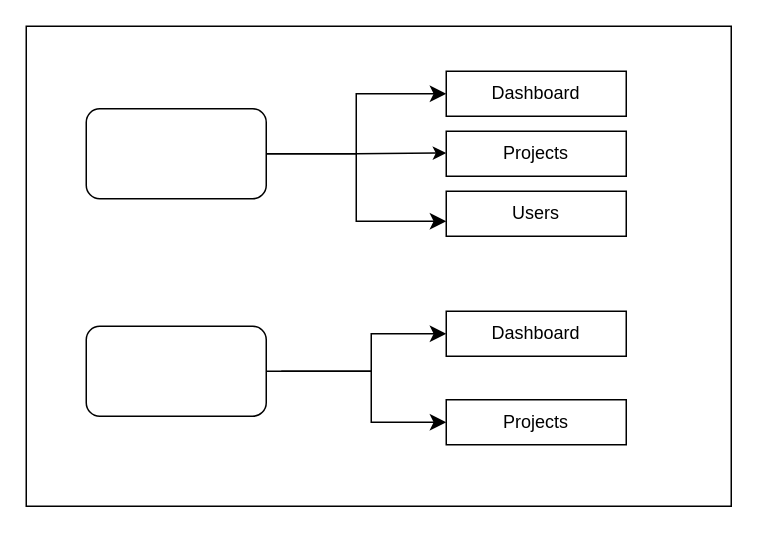
This 758x533 diagram has some shape labels left out. The centre of each missing label's shape, as x and y in pixels:
Administrator: pixel 175 153
User: pixel 175 370
